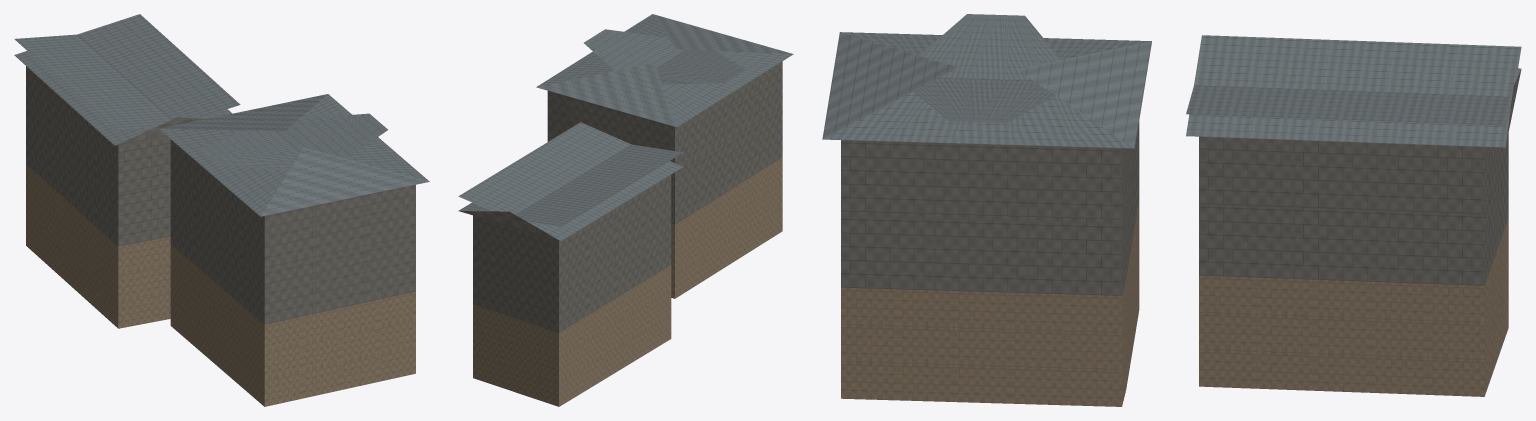
File: bld_c0_10_496.gltf
The picture shows the model from 3 angles, left to right: view 1: azimuth 30°, elevation 25°; view 2: azimuth 150°, elevation 25°; view 3: azimuth 270°, elevation 25°; orthographic projection. The views are drawn at different scales.
Parts seen in each view (by area): view 1: bld_c0_10_496; view 2: bld_c0_10_496; view 3: bld_c0_10_496.
Boxes of the visible parts, bbox=[...] form: bld_c0_10_496: bbox=[14, 14, 429, 406]; bld_c0_10_496: bbox=[458, 14, 793, 406]; bld_c0_10_496: bbox=[822, 14, 1521, 406].
Bounding box in the file's own units: 12.23 × 14.2 × 29.06.
Materials: 4 (4 with a texture image).
